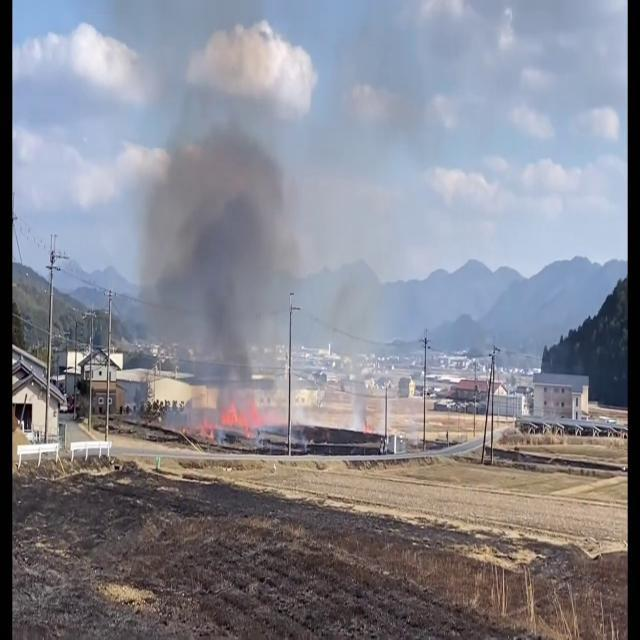Smoke: (127, 90, 386, 426), (130, 88, 294, 424)
